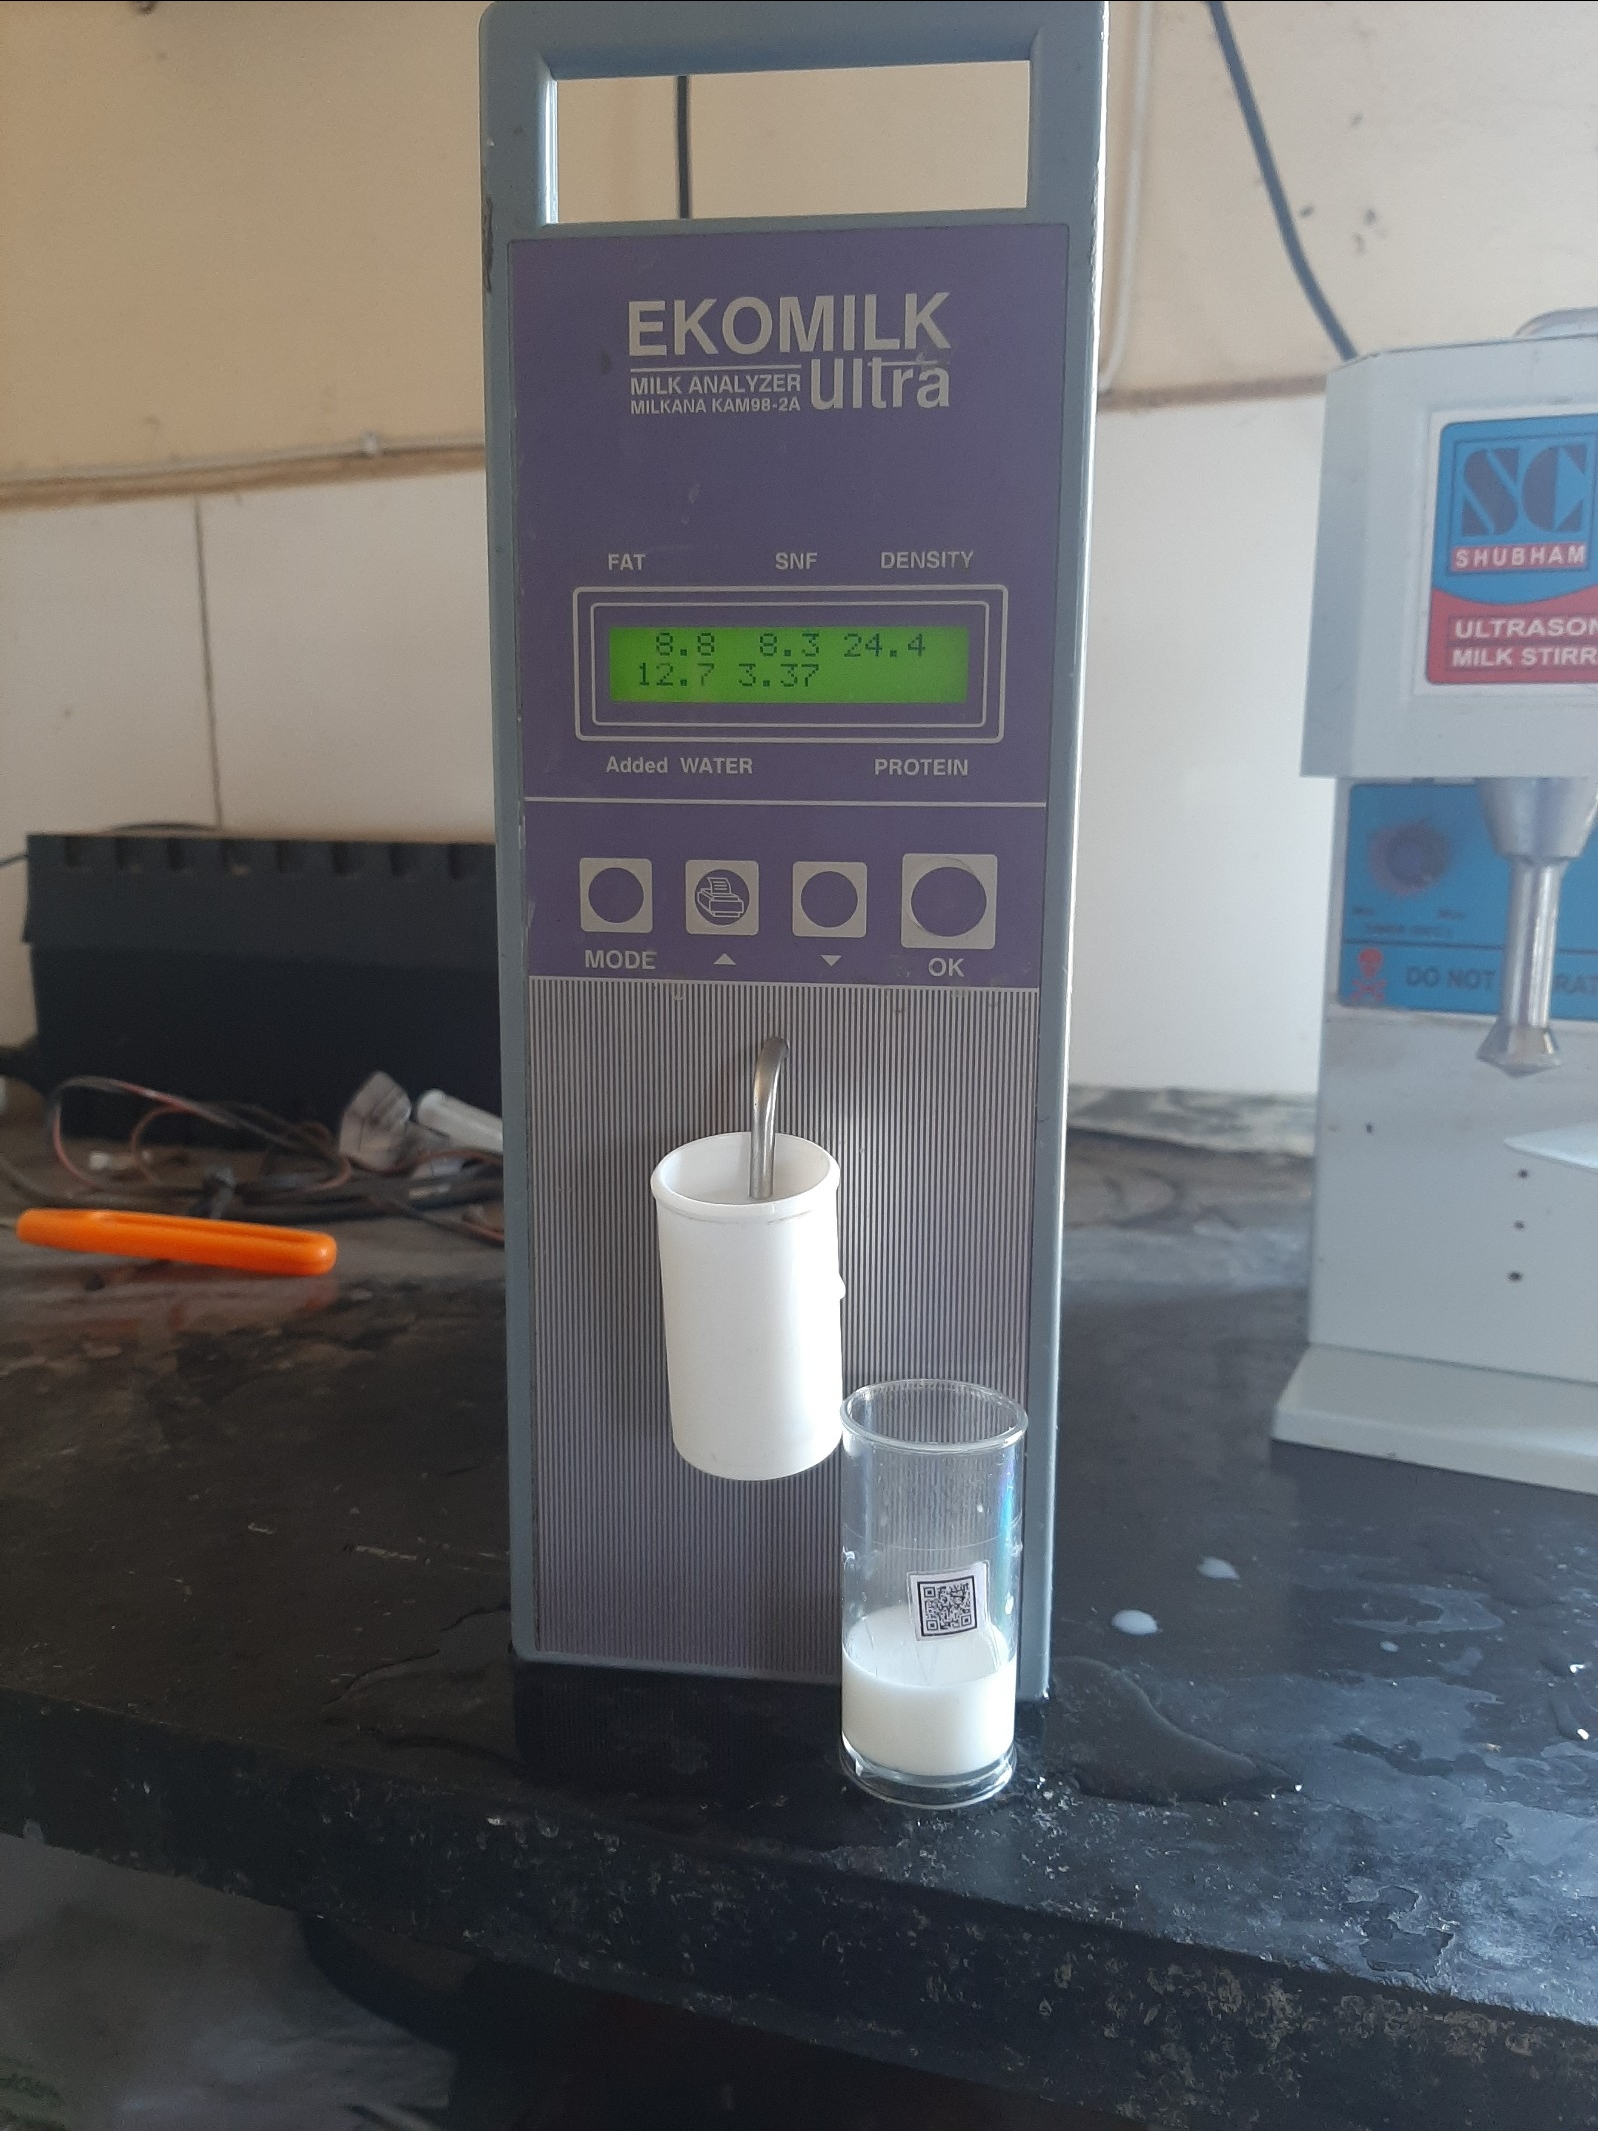lcd: (589, 601, 990, 732)
qr: (900, 1555, 1005, 1649)
